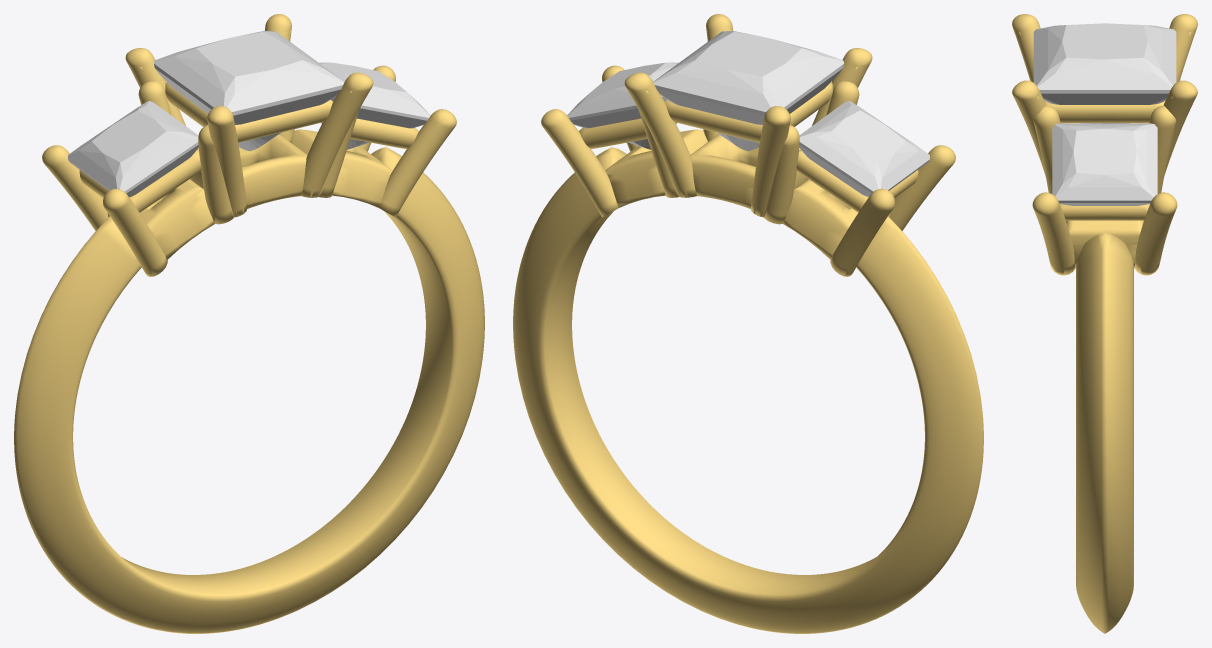
Rendered from diamond-princess-yellowgold-4prong-knifeedge-3stone.glb.
The picture shows the model from 3 angles, left to right: view 1: azimuth 30°, elevation 25°; view 2: azimuth 150°, elevation 25°; view 3: azimuth 270°, elevation 25°; orthographic projection.
Visible parts, largest first — view 1: metal, stone, side, side.001; view 2: metal, stone, side, side.001; view 3: metal, stone, side.001.
Part boxes in pixels (x1,y1,x2,y2): metal: (14,14,484,633); stone: (154,31,344,151); side: (68,101,198,197); side.001: (319,62,430,149); metal: (513,14,983,633); stone: (653,31,843,151); side: (799,101,929,197); side.001: (567,62,678,149); metal: (1012,14,1197,633); stone: (1033,23,1176,123); side.001: (1052,123,1157,205).
Bounding box in the file's own units: 20.5 × 23.85 × 7.08.
